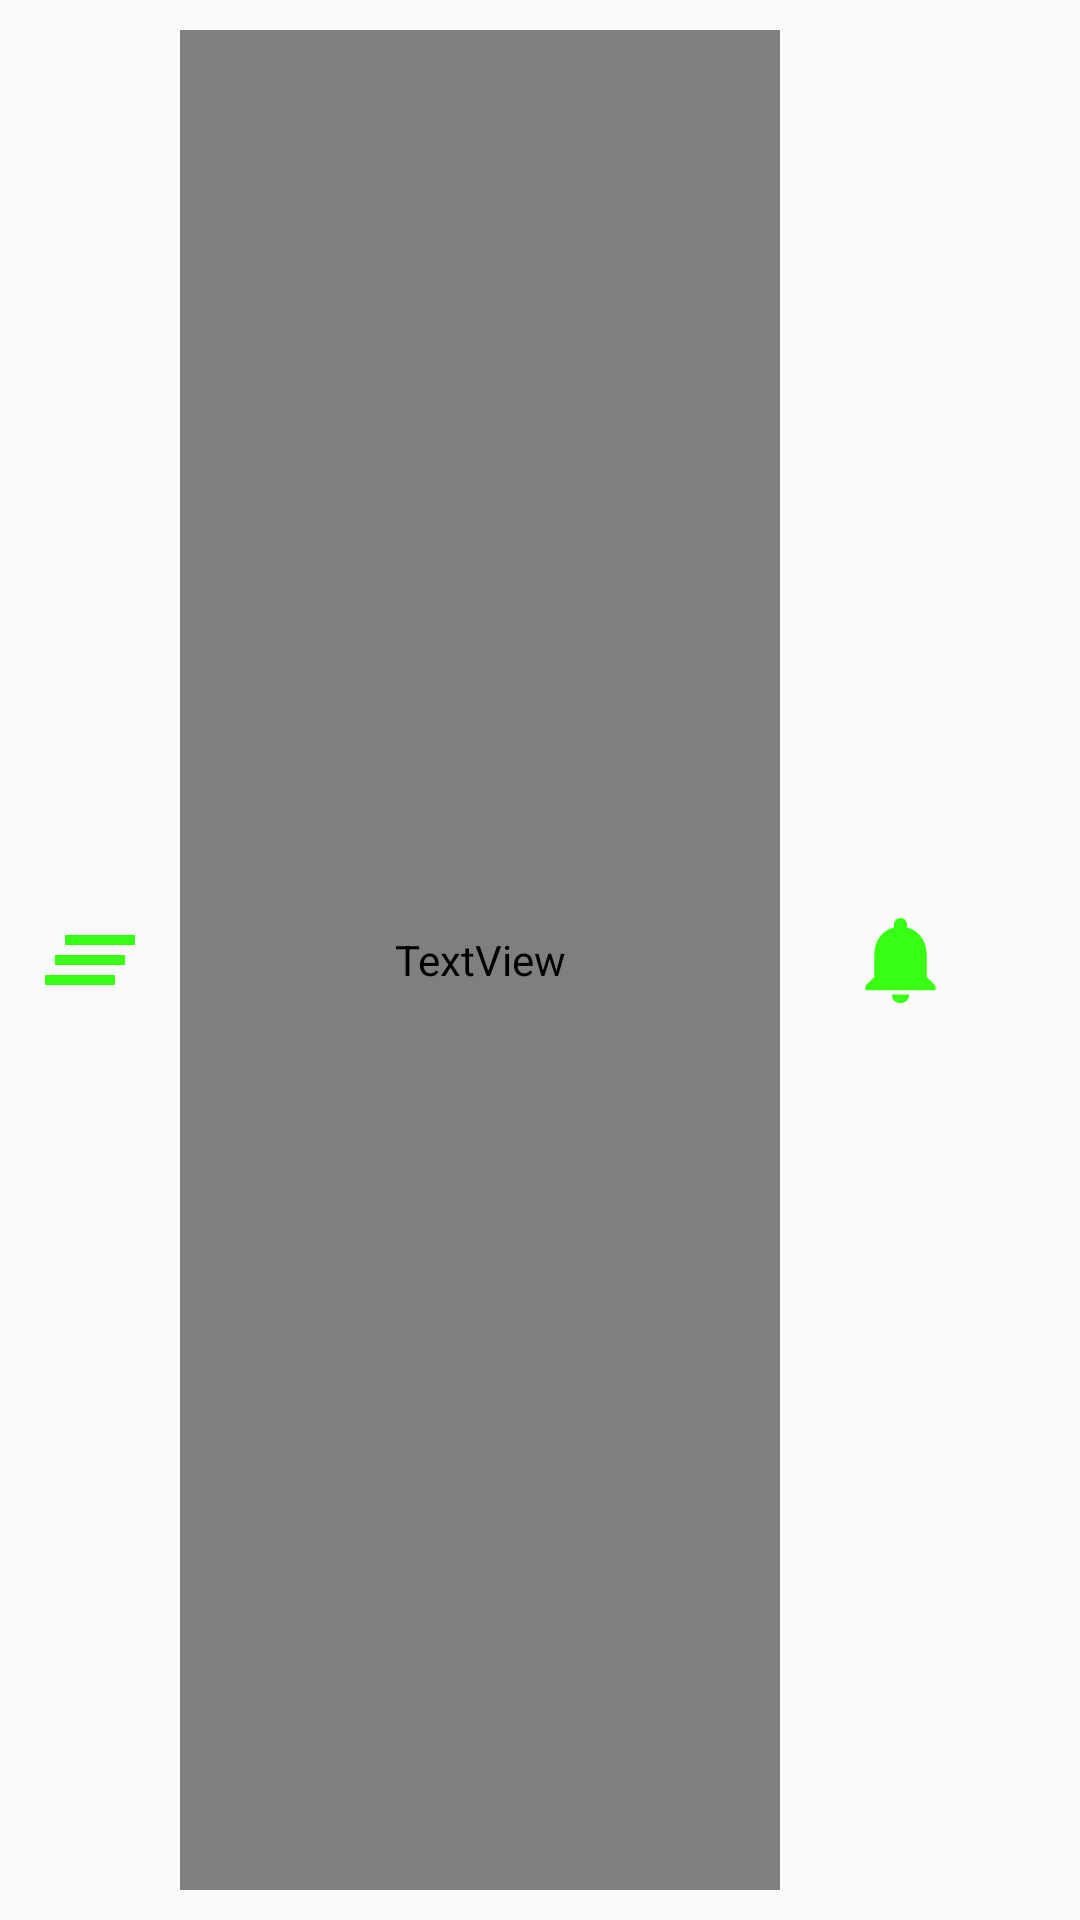

Named icons in this screenshot (1080*1920) and their bounding boxes, BBox(x1, y1, x2, y2):
bar: BBox(45, 935, 135, 985)
notifications: BBox(865, 918, 936, 1004)
